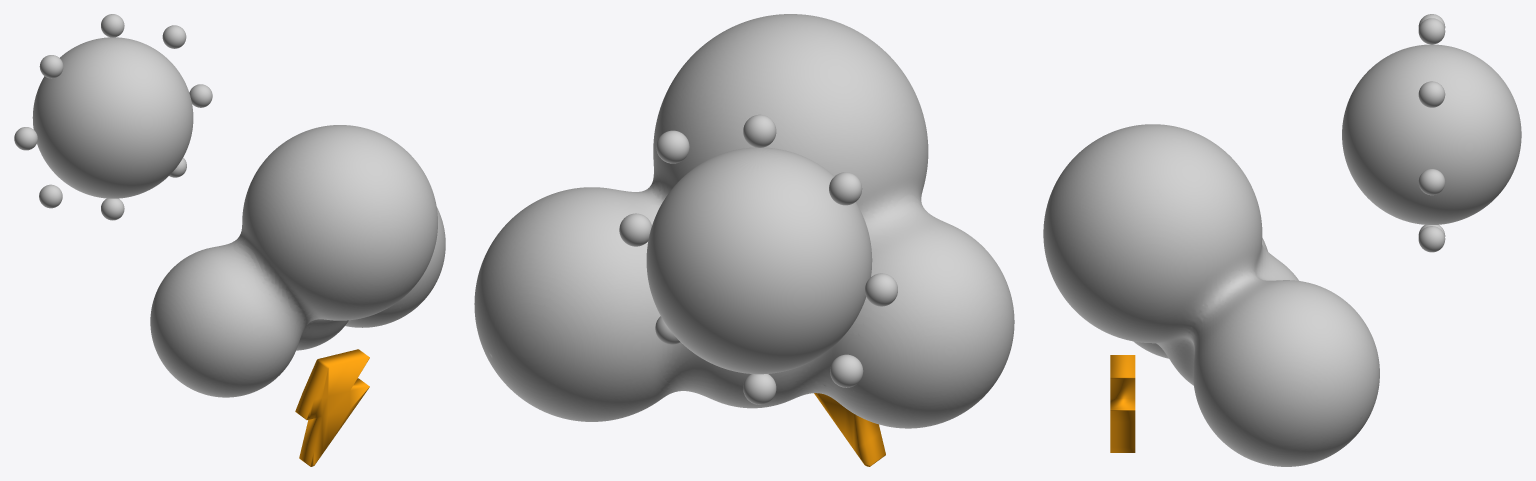
File: day7.obj
3 renders of one model, left to right at view 1: azimuth 30°, elevation 25°; view 2: azimuth 150°, elevation 25°; view 3: azimuth 270°, elevation 25°, orthographic. The views are drawn at different scales.
Parts seen in each view (by area): view 1: Mball.021_Mesh.010, Sphere.005_Sphere.021, Plane.007_Plane.004, Sphere.006_Sphere.022; view 2: Mball.021_Mesh.010, Sphere.005_Sphere.021, Sphere.006_Sphere.022, Plane.007_Plane.004; view 3: Mball.021_Mesh.010, Sphere.005_Sphere.021, Plane.007_Plane.004, Sphere.006_Sphere.022.
Boxes of the visible parts, left/top/right/bottom form: Mball.021_Mesh.010: left=150, top=125, right=445, bottom=397; Sphere.005_Sphere.021: left=32, top=37, right=193, bottom=198; Plane.007_Plane.004: left=295, top=349, right=369, bottom=466; Sphere.006_Sphere.022: left=14, top=14, right=212, bottom=220; Mball.021_Mesh.010: left=474, top=14, right=1014, bottom=428; Sphere.005_Sphere.021: left=646, top=147, right=872, bottom=374; Sphere.006_Sphere.022: left=619, top=114, right=897, bottom=404; Plane.007_Plane.004: left=814, top=393, right=885, bottom=466; Mball.021_Mesh.010: left=1043, top=124, right=1379, bottom=466; Sphere.005_Sphere.021: left=1342, top=44, right=1521, bottom=224; Plane.007_Plane.004: left=1110, top=355, right=1135, bottom=452; Sphere.006_Sphere.022: left=1418, top=14, right=1445, bottom=252.
Size of the model in its own units: 5.01 by 4.87 by 5.24.
